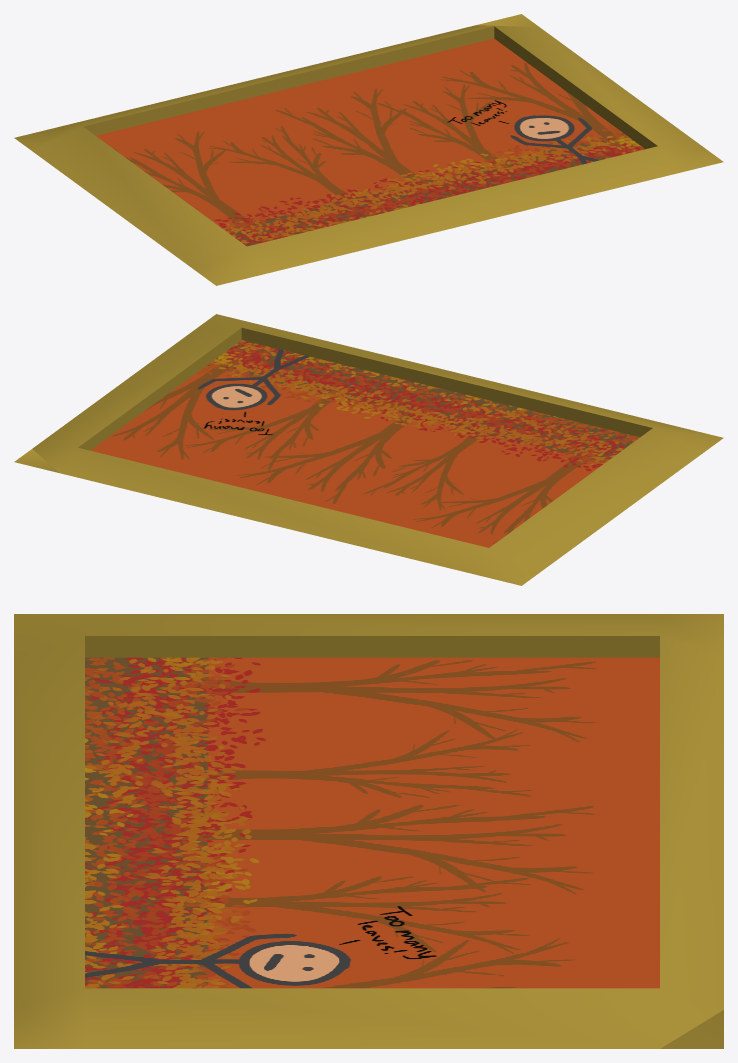
The model's file is FallPainting.fbx.
3 renders of one model, top to bottom at view 1: azimuth 30°, elevation 25°; view 2: azimuth 150°, elevation 25°; view 3: azimuth 270°, elevation 25°, orthographic. The views are drawn at different scales.
Parts seen in each view (by area): view 1: pPlane1, pCube1; view 2: pPlane1, pCube1; view 3: pPlane1, pCube1.
Boxes of the visible parts, box(x1,y1,x2,y2) form: pPlane1: box(96, 38, 644, 246); pCube1: box(14, 14, 723, 285); pPlane1: box(91, 340, 639, 547); pCube1: box(14, 314, 723, 585); pPlane1: box(85, 657, 659, 988); pCube1: box(14, 614, 723, 1048).
Bounding box in the file's own units: 9.35 × 0.4312 × 6.45.
Materials: 2 (1 with a texture image).
